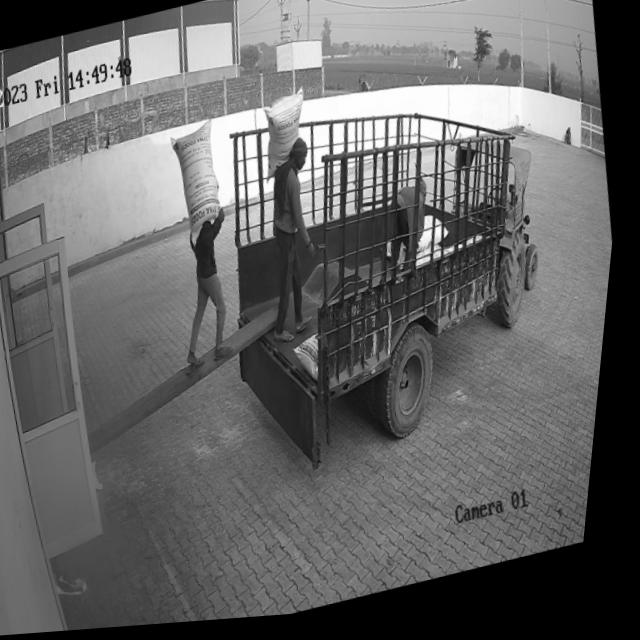sack: (162, 121, 237, 252), (256, 90, 320, 189)
